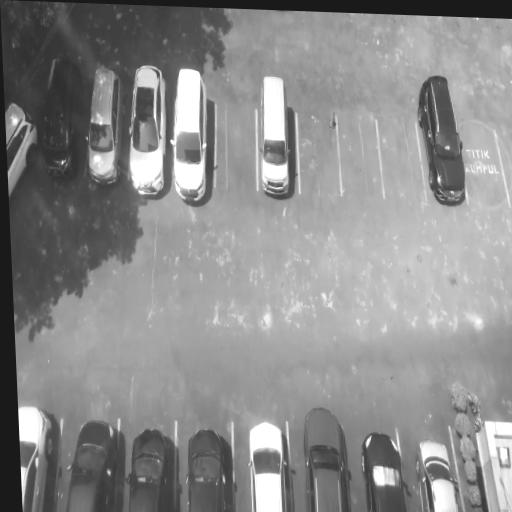Car: (123, 57, 170, 196), (169, 65, 215, 207), (417, 73, 465, 208), (38, 51, 84, 185), (300, 402, 354, 512), (65, 412, 121, 512), (84, 65, 125, 192), (256, 70, 295, 201), (18, 402, 64, 512), (126, 419, 180, 512), (186, 423, 239, 512), (359, 424, 412, 512), (5, 88, 44, 206), (248, 417, 293, 512), (415, 436, 463, 512)
Space Available: (336, 106, 384, 210), (460, 106, 507, 210), (297, 96, 340, 207), (379, 103, 423, 211), (215, 96, 260, 200)
